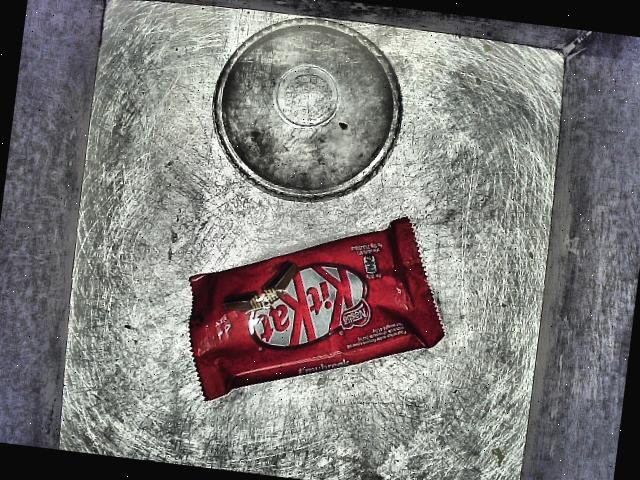Plastic: (174, 173, 467, 447), (198, 2, 424, 223)
